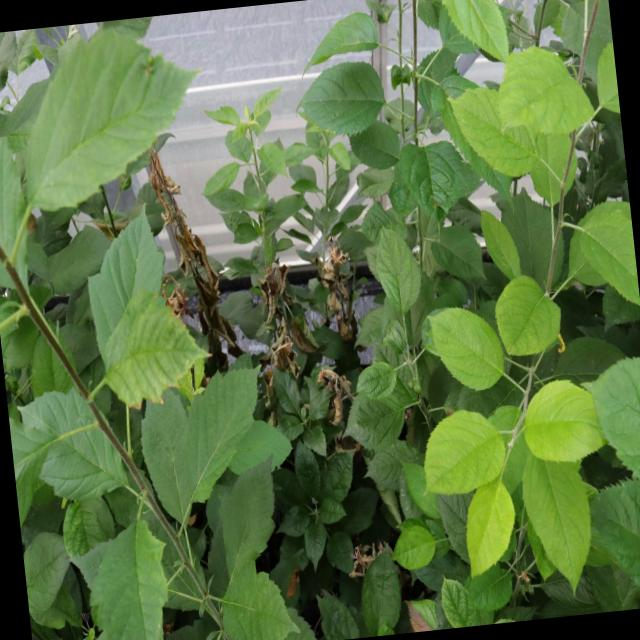-FireBlight-: (139, 147, 241, 365), (254, 254, 304, 399), (303, 239, 360, 332), (317, 366, 357, 418), (157, 268, 185, 321)
